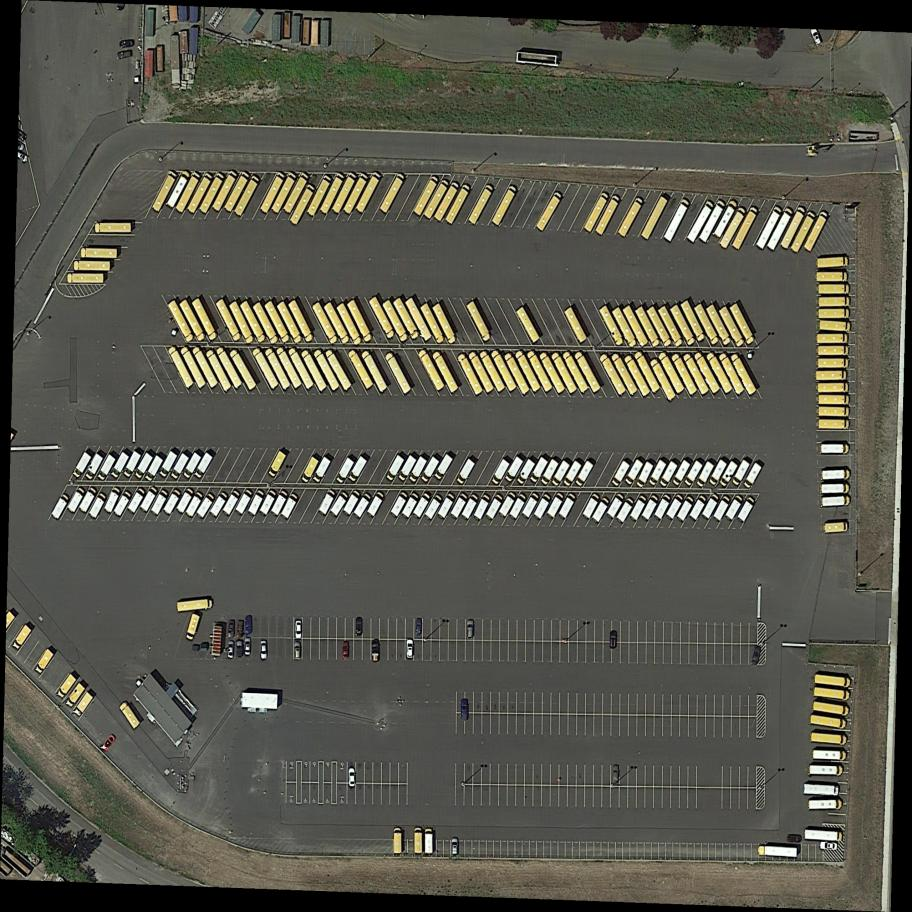large-vehicle: (753, 204, 784, 254), (596, 351, 628, 399), (403, 296, 435, 344), (764, 206, 795, 255), (321, 347, 354, 393), (716, 205, 748, 252), (366, 294, 398, 341), (213, 296, 245, 343), (571, 349, 603, 395), (684, 199, 716, 245), (279, 171, 311, 217), (390, 296, 422, 342), (176, 296, 208, 342), (536, 349, 567, 396), (549, 350, 580, 397), (213, 345, 244, 392), (298, 347, 329, 394), (697, 198, 728, 245), (729, 205, 760, 252), (380, 298, 411, 345), (334, 301, 365, 348), (165, 296, 196, 343), (189, 296, 220, 343), (321, 299, 352, 346), (274, 298, 305, 345), (310, 299, 341, 346), (249, 347, 281, 392), (788, 210, 818, 258), (250, 300, 282, 345), (430, 349, 461, 395), (382, 351, 413, 397), (691, 350, 722, 396), (661, 198, 692, 244), (488, 347, 518, 394), (502, 350, 532, 397), (648, 356, 678, 403), (184, 170, 214, 217), (778, 205, 808, 252), (416, 347, 447, 392), (454, 352, 485, 397), (592, 193, 623, 238), (377, 171, 408, 216), (410, 174, 441, 219), (231, 174, 262, 219), (267, 171, 298, 216), (478, 347, 507, 395), (466, 349, 496, 395), (560, 349, 590, 395), (359, 348, 389, 394), (165, 344, 195, 390), (263, 347, 293, 393), (311, 347, 341, 393), (632, 349, 662, 395), (639, 195, 669, 241), (173, 170, 203, 216), (340, 172, 370, 218), (345, 298, 375, 344), (226, 299, 256, 345), (621, 354, 652, 398), (421, 178, 452, 222), (286, 297, 315, 344), (524, 350, 554, 395), (177, 345, 207, 390), (190, 345, 220, 390), (609, 352, 639, 397), (728, 352, 758, 397), (704, 303, 734, 348), (353, 171, 383, 216), (221, 170, 251, 215), (257, 171, 287, 216), (304, 174, 334, 219), (238, 299, 268, 344), (149, 170, 179, 215), (513, 348, 542, 394), (205, 347, 234, 393), (670, 352, 699, 398), (197, 171, 226, 217), (801, 209, 830, 255), (615, 196, 646, 239), (228, 348, 258, 392), (680, 352, 710, 396), (704, 351, 734, 395), (716, 352, 746, 396), (432, 180, 462, 224), (442, 183, 472, 227), (466, 183, 496, 227), (489, 184, 519, 228), (610, 306, 640, 350), (274, 345, 303, 390), (597, 303, 626, 348), (263, 299, 292, 344), (533, 191, 564, 233), (717, 305, 747, 348), (645, 305, 675, 348), (287, 346, 315, 392), (727, 302, 756, 346), (657, 351, 686, 395), (692, 303, 721, 347), (317, 172, 346, 216), (329, 172, 358, 216), (668, 303, 697, 347), (621, 304, 650, 348), (345, 348, 374, 391), (679, 300, 708, 343), (582, 191, 611, 234), (288, 184, 317, 227), (430, 302, 459, 345), (210, 170, 238, 214), (465, 300, 493, 344), (710, 199, 739, 241), (418, 302, 446, 345), (657, 305, 685, 348), (164, 169, 192, 211), (635, 306, 663, 348), (514, 305, 541, 345), (562, 305, 588, 345), (10, 623, 34, 652), (72, 692, 96, 720), (118, 701, 141, 730), (86, 492, 109, 521), (49, 493, 72, 522), (174, 487, 196, 517), (723, 493, 745, 523), (590, 496, 612, 526), (33, 648, 56, 676), (734, 496, 757, 524), (347, 456, 369, 485), (96, 453, 118, 482), (195, 493, 217, 522), (149, 489, 171, 518), (183, 491, 205, 520), (208, 491, 230, 520), (609, 459, 631, 488), (623, 458, 645, 487), (77, 486, 99, 515), (628, 495, 650, 524), (580, 492, 602, 521), (422, 494, 444, 523), (55, 673, 78, 700), (384, 454, 406, 482), (419, 456, 441, 484), (503, 456, 525, 484), (83, 453, 105, 481), (109, 451, 131, 479), (221, 490, 243, 518), (718, 460, 740, 488), (687, 495, 709, 523), (388, 491, 410, 519), (126, 487, 147, 516), (139, 486, 160, 515), (66, 486, 87, 515), (639, 494, 660, 523), (436, 492, 457, 521), (508, 493, 529, 522), (490, 459, 512, 486), (71, 452, 93, 479), (812, 701, 849, 717), (396, 455, 417, 483), (455, 458, 476, 486), (515, 458, 536, 486), (181, 452, 202, 480), (122, 451, 143, 479), (143, 455, 164, 483), (158, 451, 179, 479), (539, 459, 560, 487), (574, 460, 595, 488), (162, 489, 183, 517), (246, 490, 267, 518), (280, 493, 301, 521), (112, 491, 133, 519), (329, 491, 350, 519), (647, 459, 668, 487), (671, 459, 692, 487), (675, 495, 696, 523), (605, 492, 626, 520), (652, 494, 673, 522), (352, 492, 373, 520), (448, 492, 469, 520), (365, 491, 386, 519), (400, 492, 421, 520), (411, 492, 432, 520), (544, 492, 565, 520), (484, 493, 505, 521), (497, 491, 518, 519), (520, 492, 541, 520), (103, 486, 123, 515), (234, 489, 254, 518), (258, 489, 278, 518), (712, 494, 732, 523), (532, 493, 552, 522), (334, 457, 355, 484), (266, 451, 287, 478), (433, 454, 454, 481), (528, 457, 549, 484), (193, 453, 214, 480), (169, 453, 190, 480), (65, 682, 86, 709), (683, 460, 704, 487), (615, 498, 636, 525), (300, 456, 320, 484), (134, 452, 154, 480), (635, 461, 655, 489), (708, 459, 728, 487), (731, 459, 751, 487), (342, 490, 362, 518), (665, 494, 685, 522), (557, 493, 577, 521), (460, 494, 480, 522), (472, 494, 492, 522), (814, 674, 851, 689), (813, 687, 850, 702), (810, 715, 847, 730), (742, 463, 763, 489), (551, 460, 571, 487), (562, 461, 582, 488), (659, 461, 679, 488), (804, 829, 842, 843), (270, 490, 289, 518), (318, 488, 337, 516), (701, 494, 720, 522), (170, 36, 180, 88), (408, 456, 427, 483), (696, 461, 715, 488), (312, 457, 331, 483), (757, 846, 797, 858), (177, 599, 213, 612), (812, 749, 847, 762), (185, 614, 201, 641), (817, 256, 850, 269), (811, 733, 846, 745), (74, 261, 110, 272), (804, 785, 840, 796), (67, 273, 103, 284), (81, 248, 117, 259), (820, 469, 850, 482), (94, 223, 132, 233), (821, 495, 850, 508), (808, 800, 842, 811), (819, 320, 850, 332), (817, 309, 850, 320), (817, 346, 850, 357), (810, 765, 843, 776), (819, 444, 849, 456), (818, 358, 849, 369), (817, 383, 848, 394), (819, 395, 849, 406), (819, 407, 849, 418), (816, 273, 848, 283), (816, 334, 848, 344), (818, 285, 849, 295), (816, 371, 847, 381), (423, 827, 434, 855), (817, 298, 850, 307), (820, 484, 849, 494), (824, 522, 848, 534), (819, 420, 849, 429), (393, 827, 402, 856), (414, 827, 423, 854)
small-vehicle: (99, 734, 116, 752), (809, 28, 824, 47), (14, 151, 30, 165), (460, 700, 470, 721), (371, 640, 381, 661), (751, 646, 761, 665), (347, 767, 356, 788), (15, 129, 29, 142), (820, 842, 838, 852), (236, 620, 245, 639), (14, 140, 27, 153), (406, 639, 414, 659), (228, 620, 236, 640), (119, 39, 135, 49), (342, 641, 350, 660), (355, 616, 363, 635), (117, 50, 132, 60), (452, 837, 459, 856), (467, 620, 474, 639), (295, 620, 302, 639), (294, 641, 301, 660), (415, 618, 422, 636), (261, 639, 267, 660), (244, 638, 251, 656), (787, 835, 802, 843), (612, 765, 619, 782), (236, 641, 243, 657), (246, 616, 252, 634), (610, 631, 616, 648), (228, 641, 233, 657)
